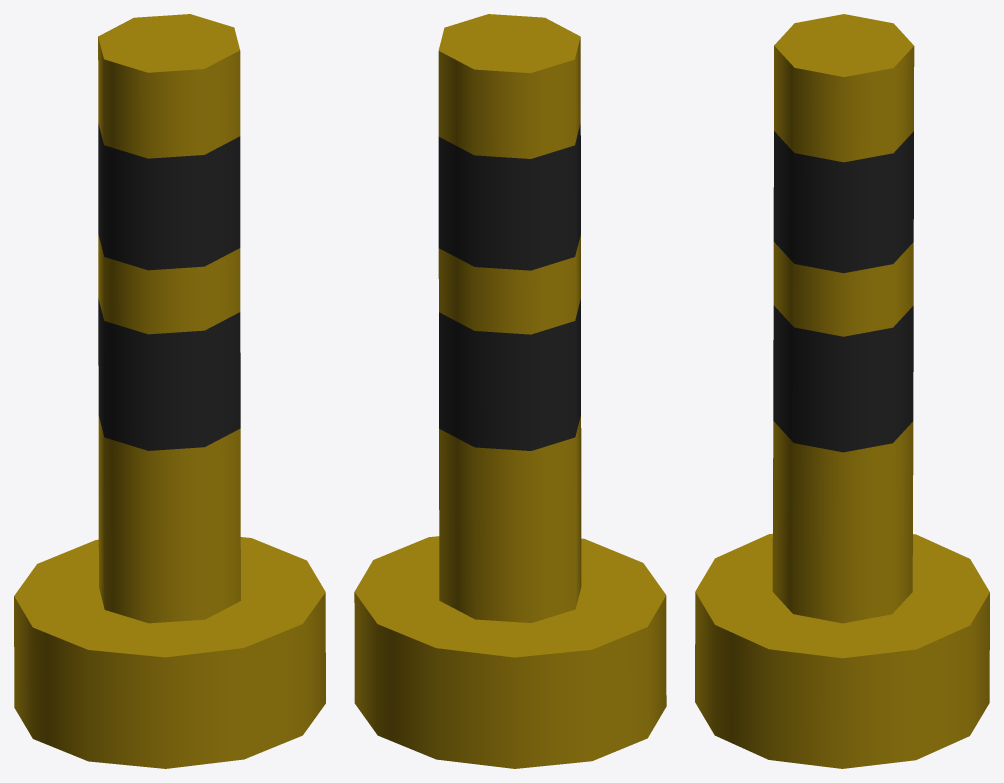
The model's file is column_04.fbx.
The picture shows the model from 3 angles, left to right: view 1: azimuth 30°, elevation 25°; view 2: azimuth 150°, elevation 25°; view 3: azimuth 270°, elevation 25°; orthographic projection.
Visible parts, largest first — view 1: column_04; view 2: column_04; view 3: column_04.
Part boxes in pixels (x1,y1,x2,y2): column_04: (14, 14, 325, 768); column_04: (354, 14, 666, 768); column_04: (695, 14, 989, 768).
Bounding box in the file's own units: 37.95 × 87.54 × 35.59.
